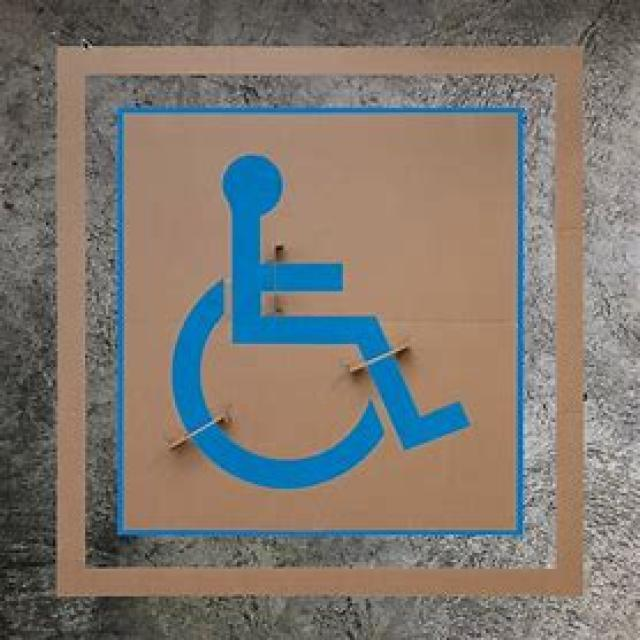car-handicap-placard: (170, 154, 472, 492)
